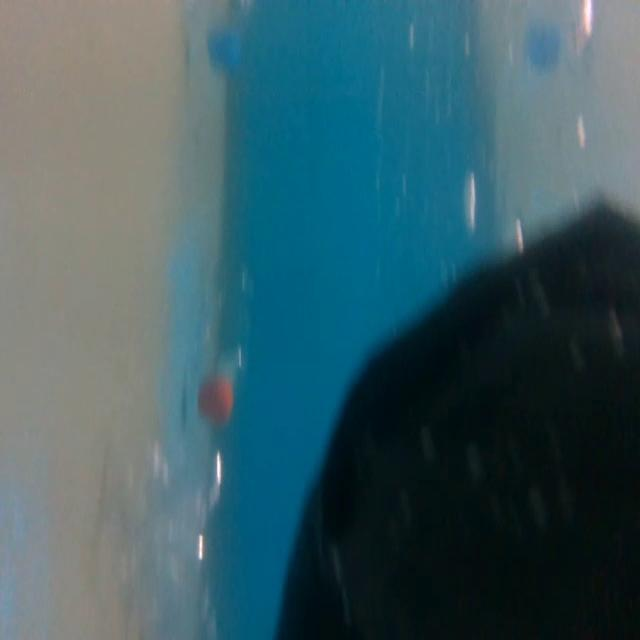plastic bags: (272, 206, 639, 640)
plastic bottle: (114, 442, 230, 640), (191, 254, 258, 426)
